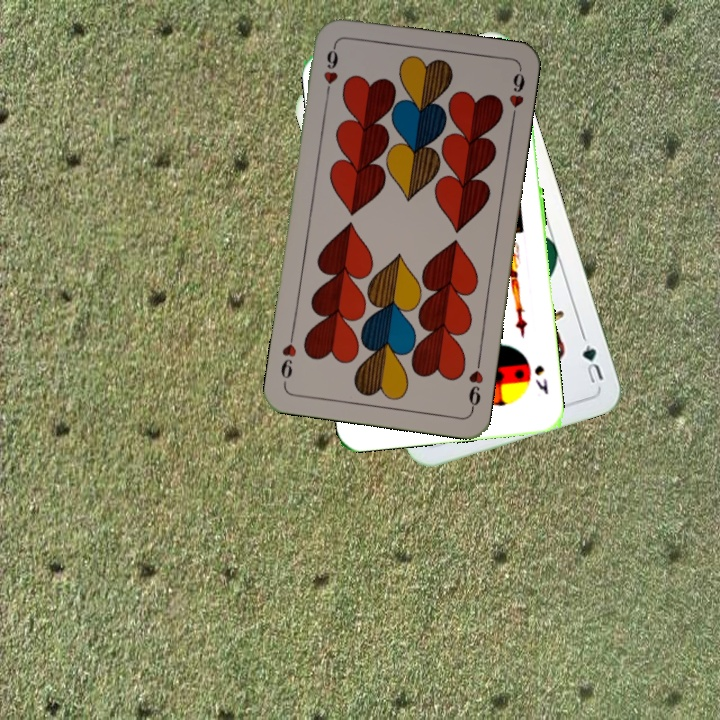GU: (577, 331, 606, 387)
H9: (464, 354, 486, 413), (319, 41, 341, 100)
SK: (530, 361, 551, 397)
